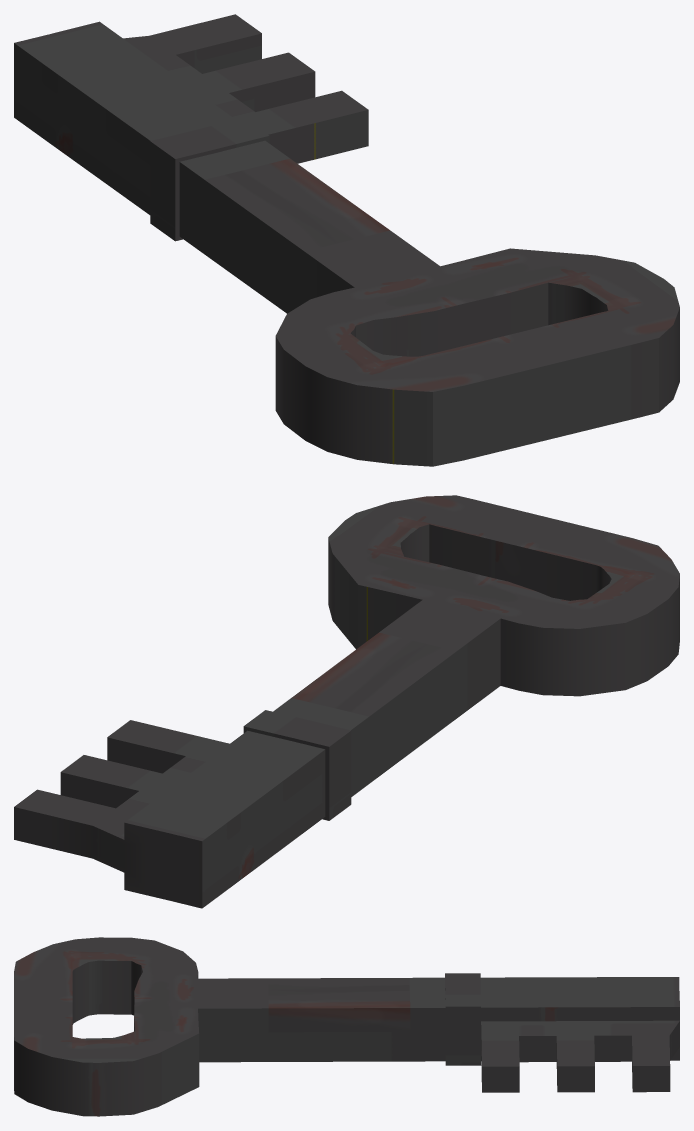
The model's file is ChainKey.glb.
3 views of the same model, one above another, from view 1: azimuth 30°, elevation 25°; view 2: azimuth 150°, elevation 25°; view 3: azimuth 270°, elevation 25° (orthographic). The views are drawn at different scales.
Visible parts, largest first — view 1: ChainKey; view 2: ChainKey; view 3: ChainKey.
Boxes of the visible parts, box(x1,y1,x2,y2) form: ChainKey: box(14, 14, 679, 466); ChainKey: box(14, 495, 679, 908); ChainKey: box(14, 937, 679, 1116).
Size of the model in its own units: 1.6 by 0.3505 by 3.59.
1 material, 1 textured.
